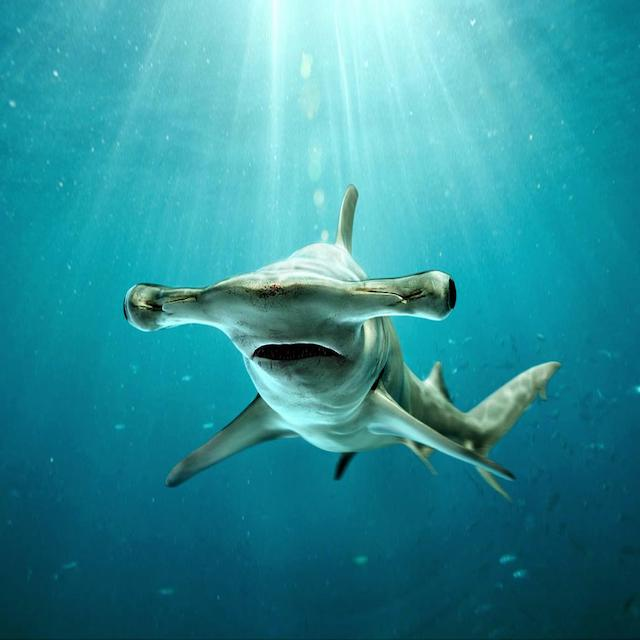hammerhead: (130, 233, 483, 403)
